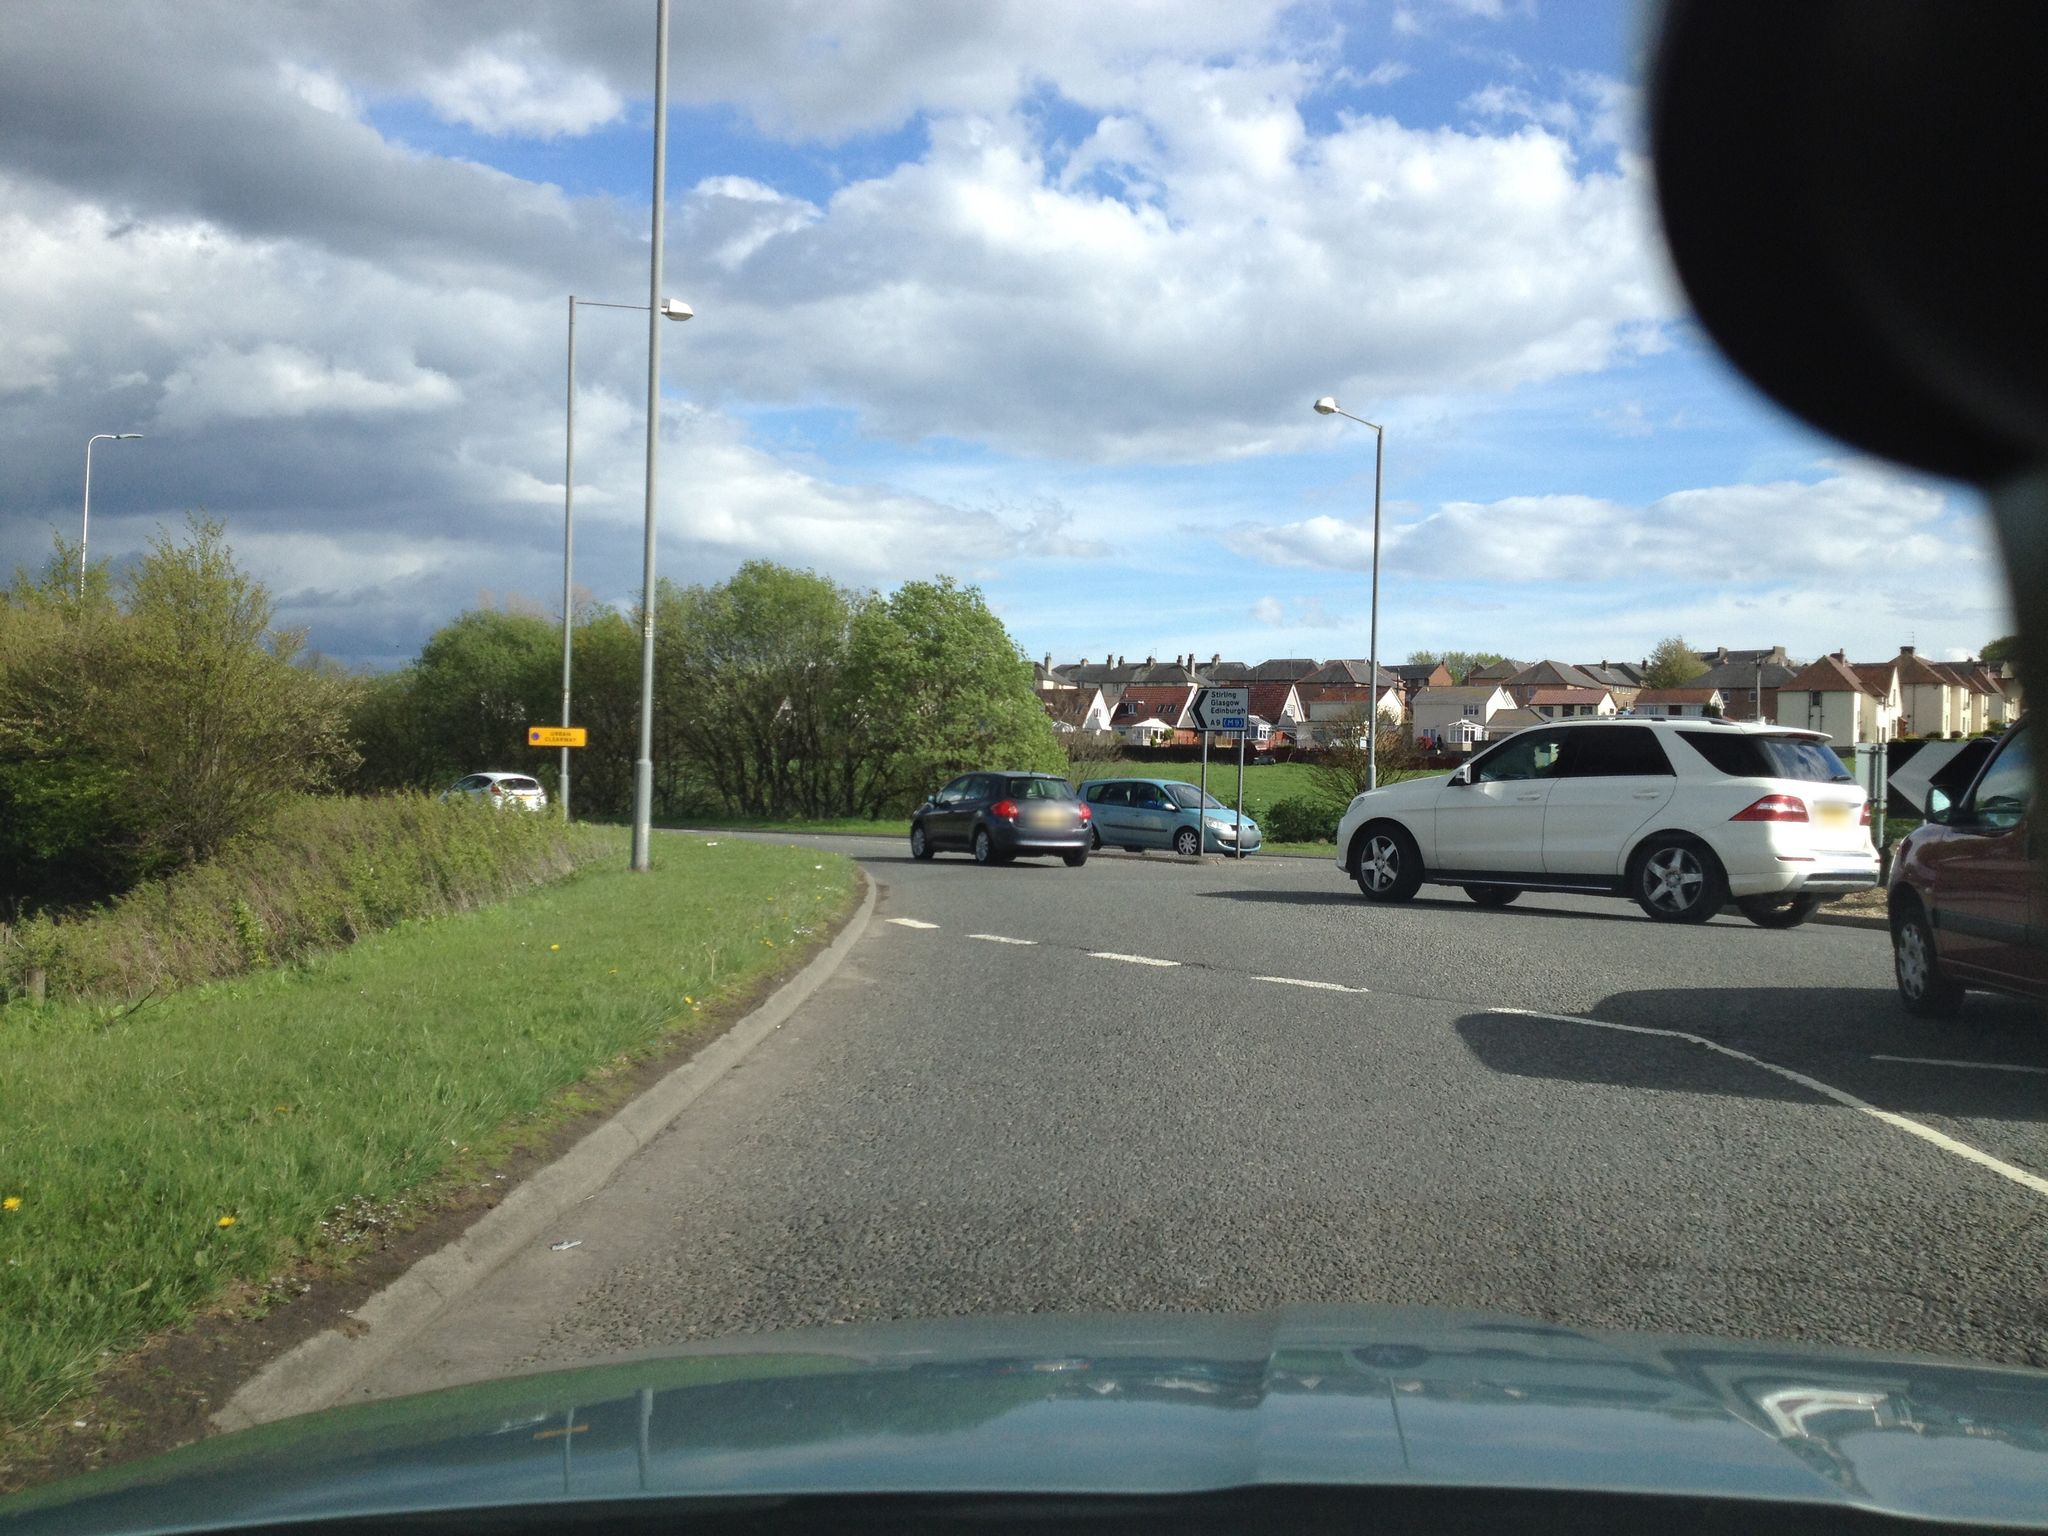car: (1334, 712, 1887, 926), (1887, 713, 2048, 1023), (910, 770, 1093, 866), (1077, 776, 1263, 857), (437, 771, 547, 812)
